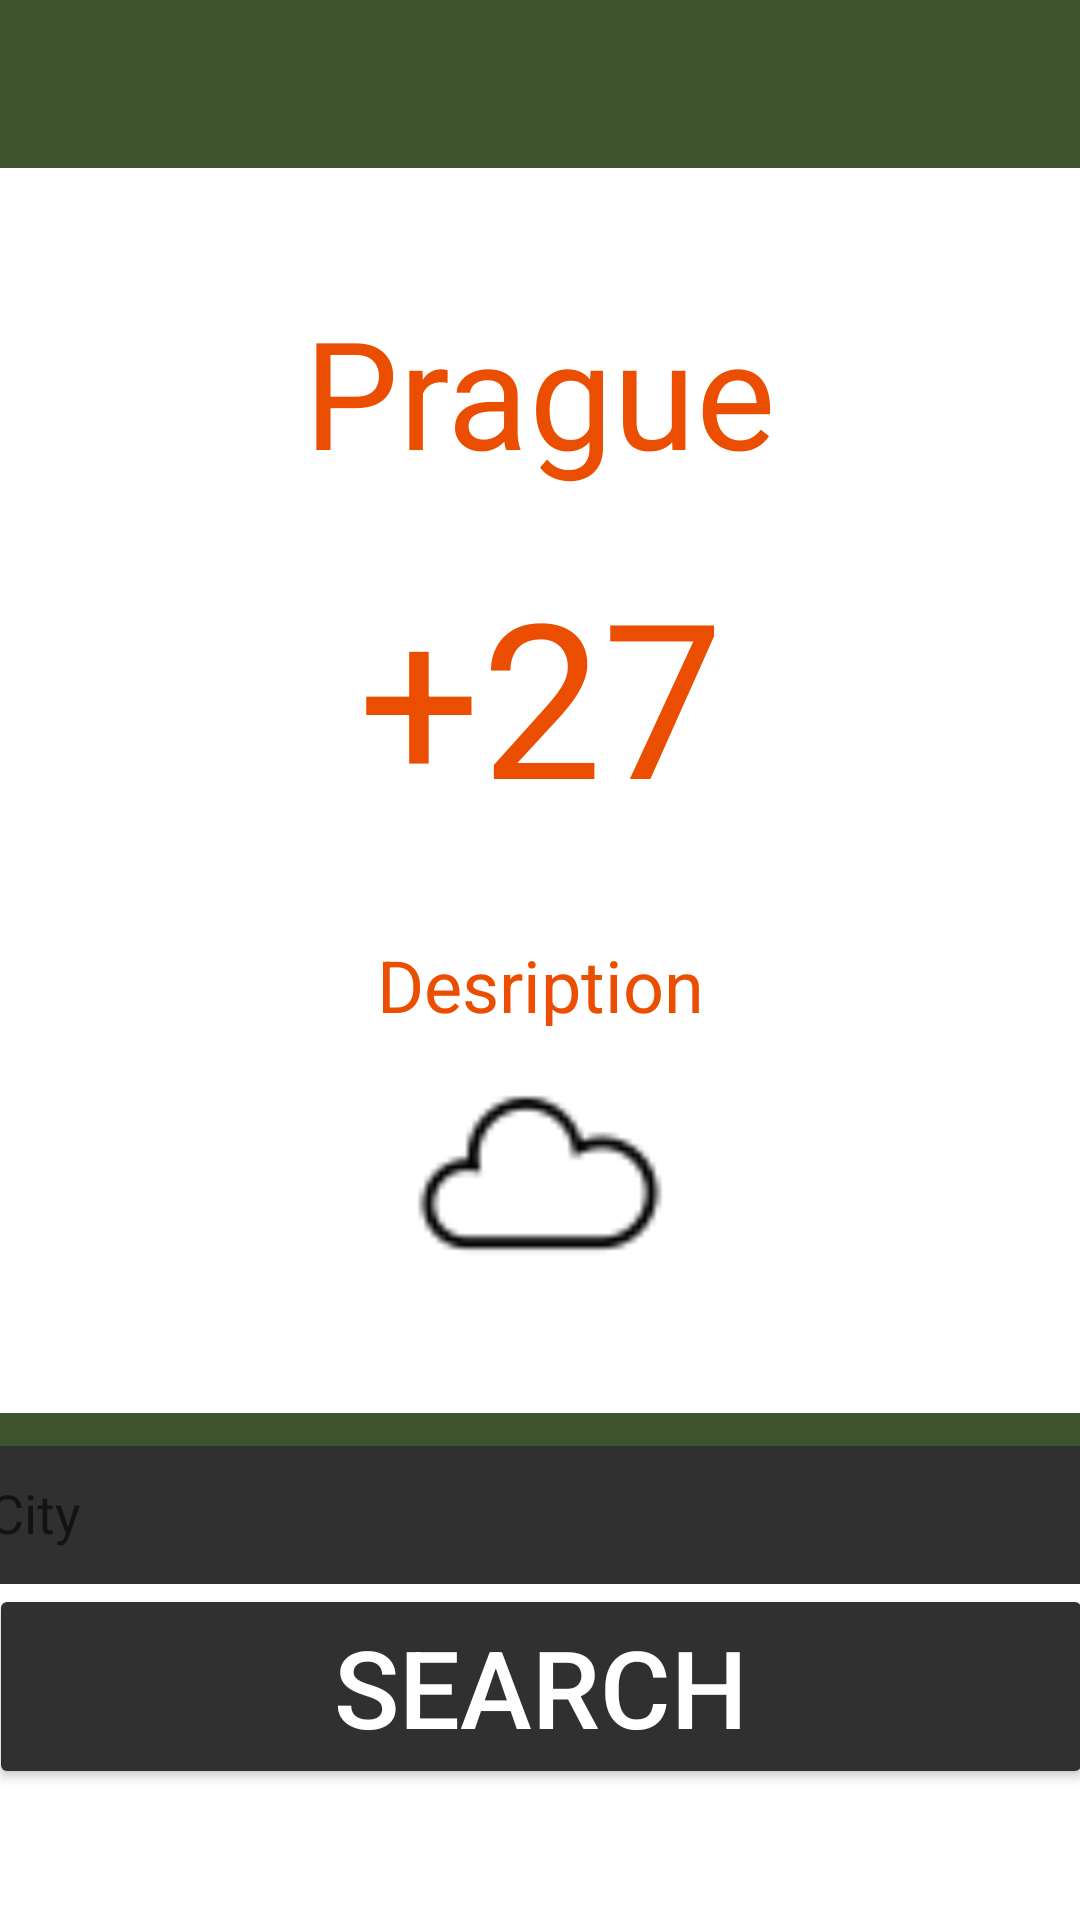

Icon click points for this 1080px x 1920px phone screenshot, format (x,y):
clouds: (540,1173)
